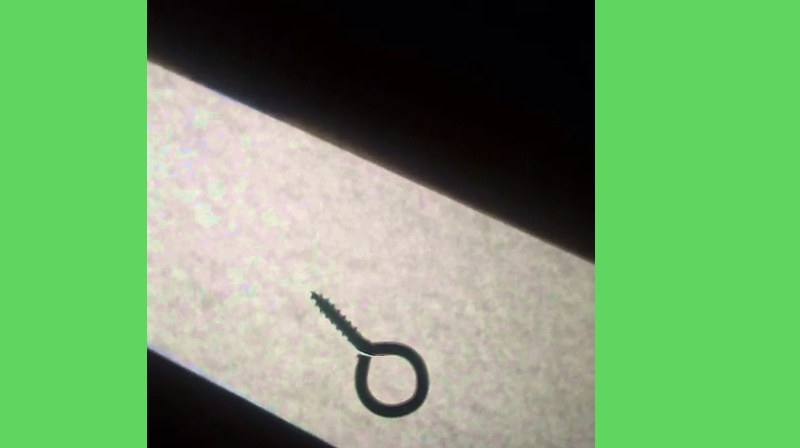O001: (309, 288, 431, 421)
